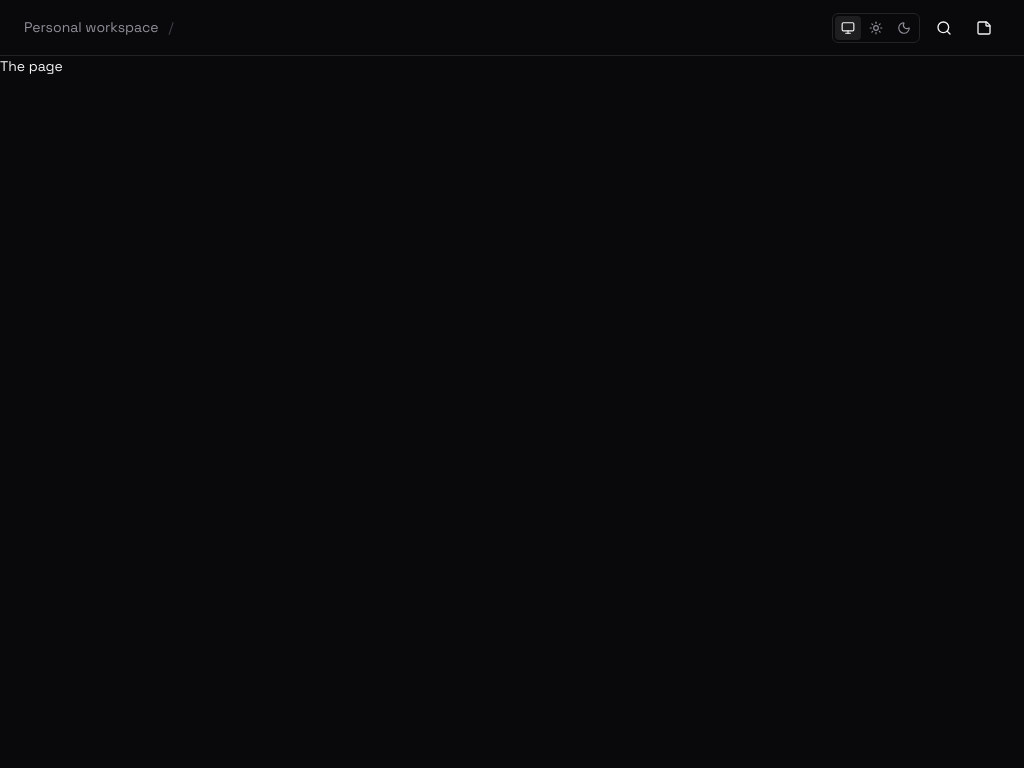
without saved items on this server there is no Save as a note
Click the button named "Scratch pad" at [984, 28], box [968, 12, 1000, 44]
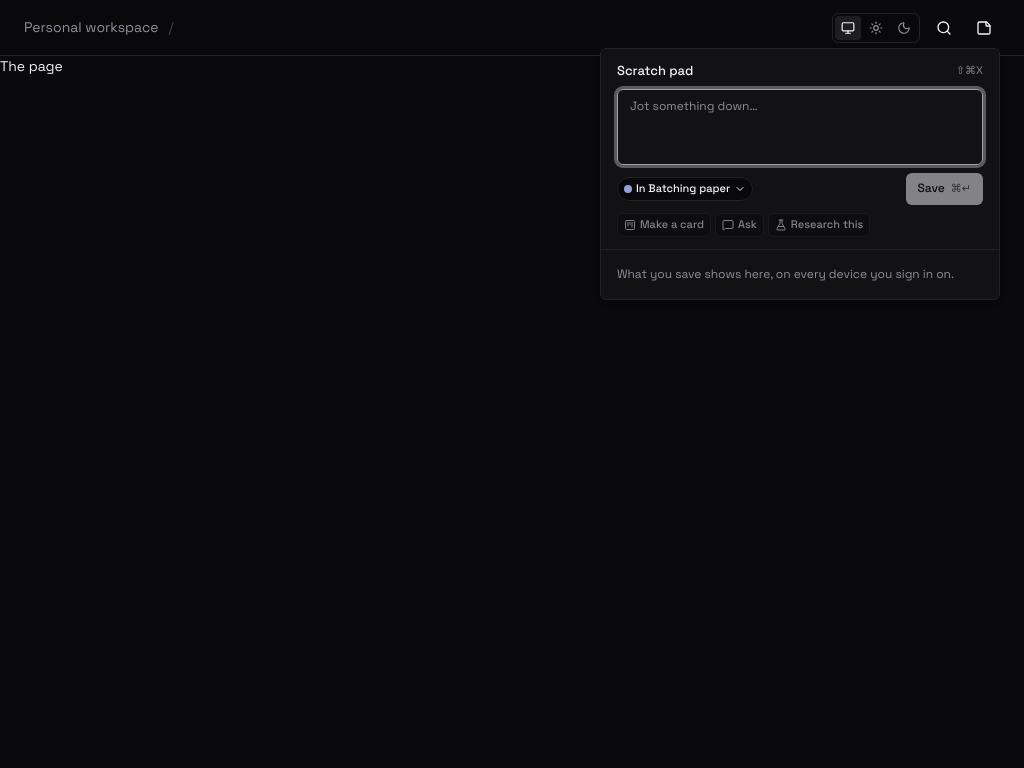
Type "Something" into the text box labelled "Jot something down" at [800, 126], box [617, 88, 983, 164]
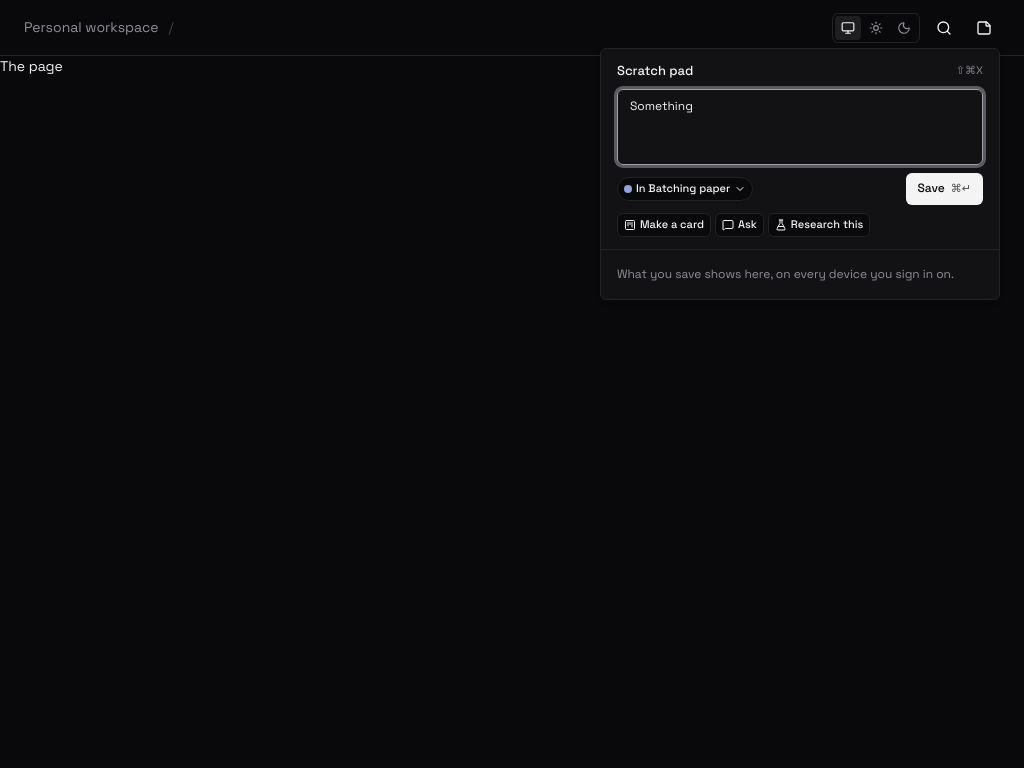
Expected: the button "Make a card" is enabled, [617, 212, 711, 236]
